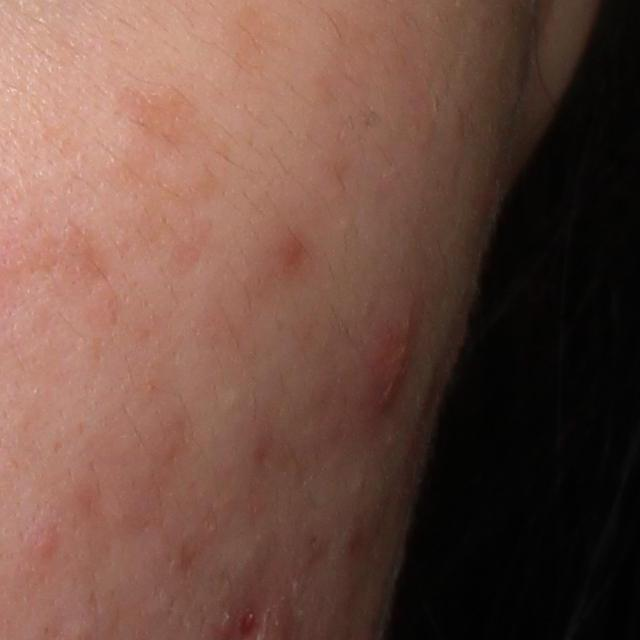melasma: (117, 79, 214, 155), (220, 0, 290, 83)
papule: (370, 302, 416, 422), (32, 522, 62, 565)
